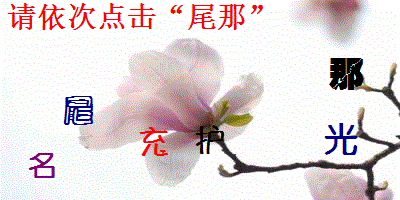result: (186, 1, 248, 32)
text: (323, 120, 360, 159), (328, 56, 366, 92), (61, 93, 96, 128), (139, 125, 171, 159), (193, 125, 226, 156), (28, 150, 59, 180)
